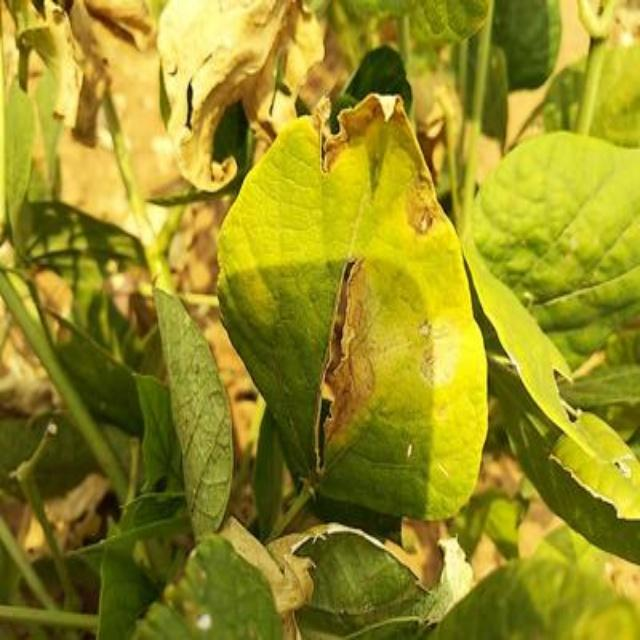shot_hole: (157, 23, 605, 557)
